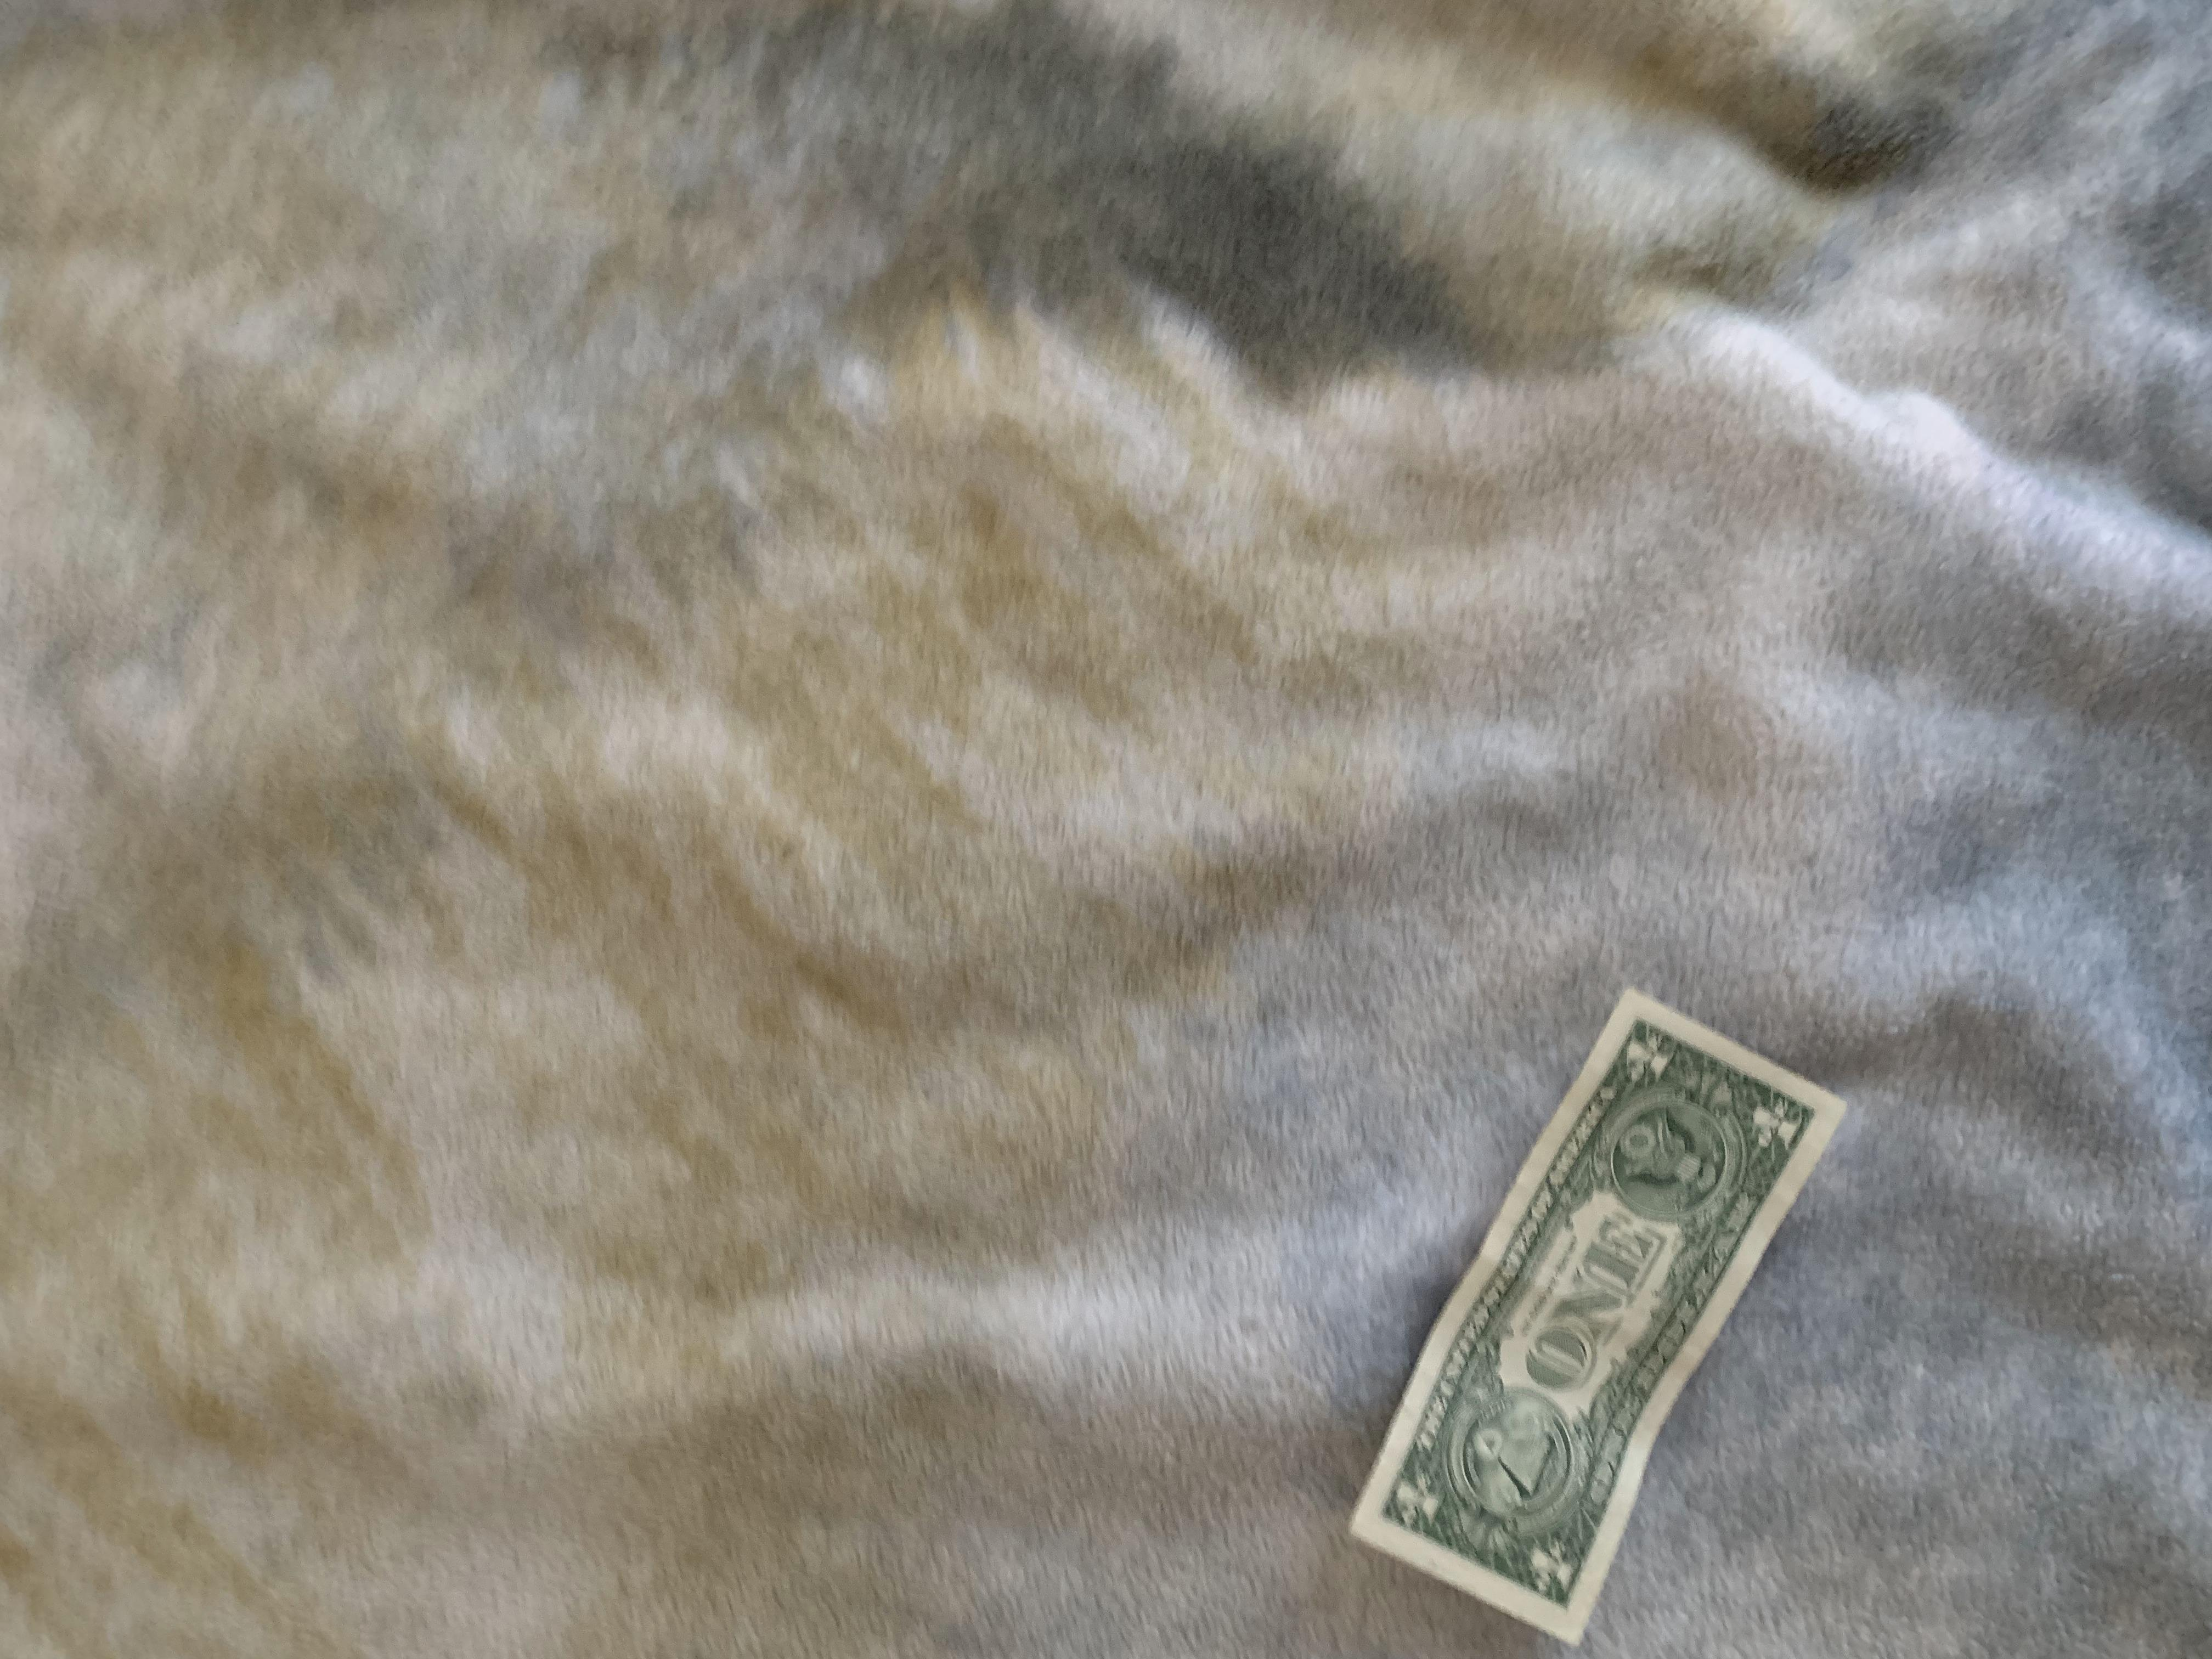OneBill: (1352, 971, 1851, 1643)
